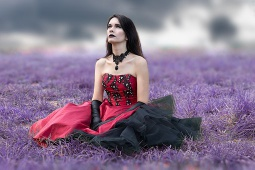female: (105, 14, 137, 54)
